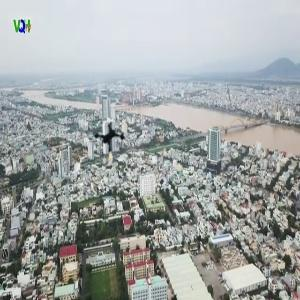drone: (85, 121, 133, 169)
